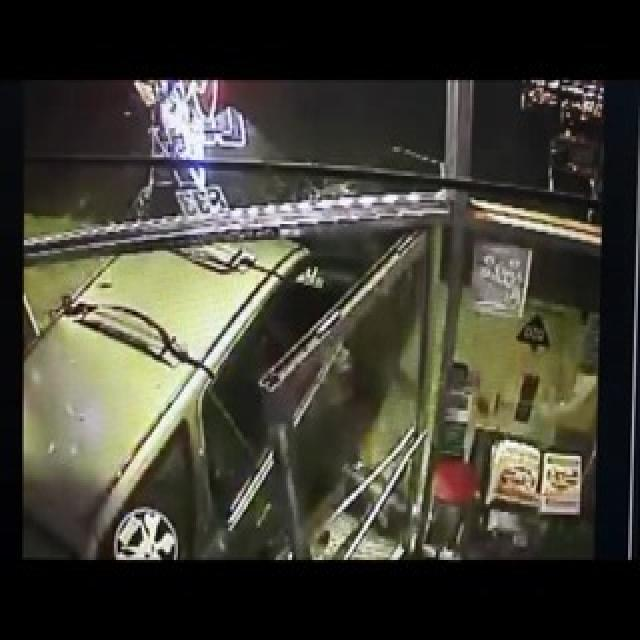burglary: (30, 228, 427, 546)
